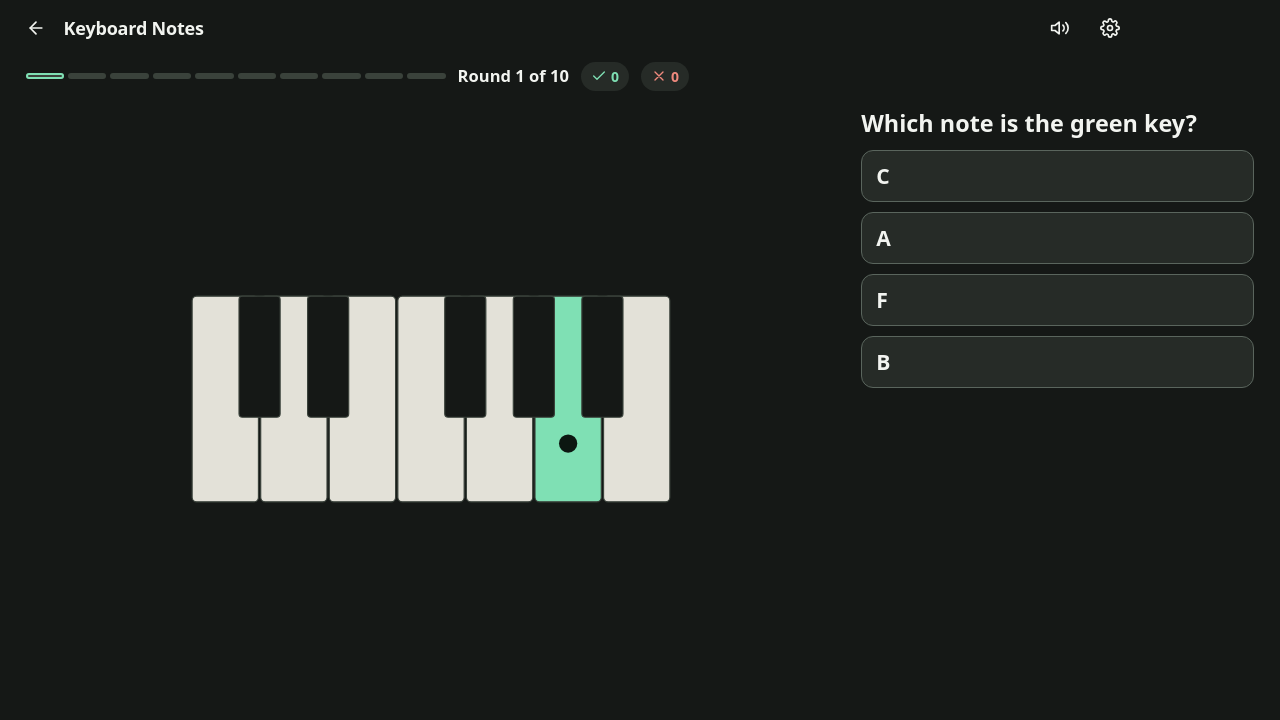
Test: the two-pane stage from 1000 px › puts the answers in one column with number keys and the feedback in the same column
The image size is (1280, 720).
Click the button "A".
click(883, 238)  # box [861,212,1254,264]
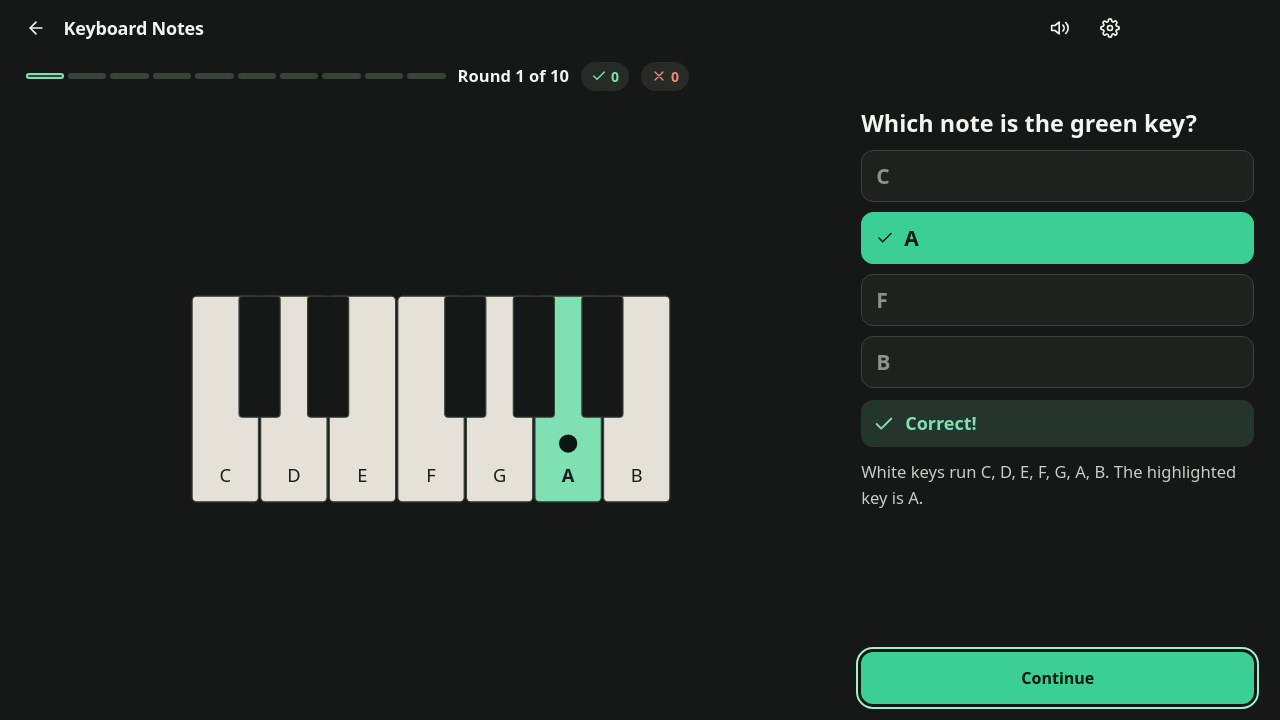
Now the message shows "Correct!", box [905,411,977,435]
Click the button "Continue".
click(1058, 678)  # box [861,652,1254,704]
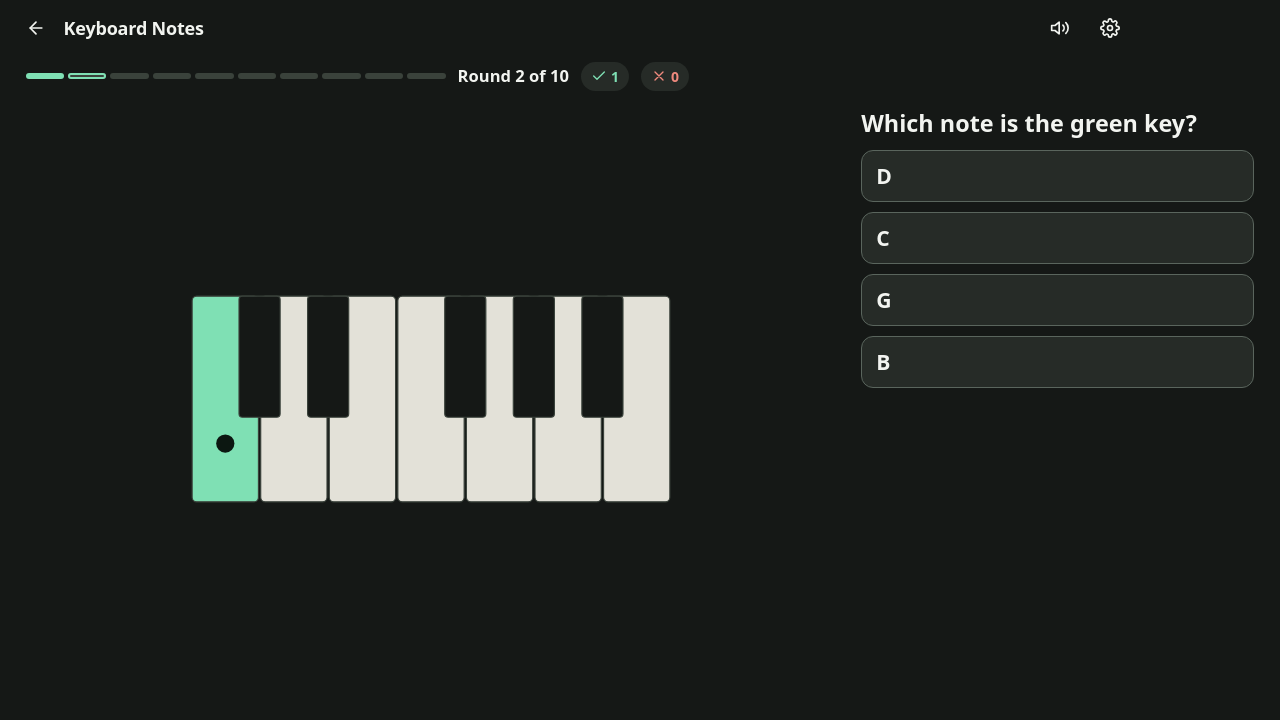
Now the text "Round 2 of 10" is shown, box [458,64,569,88]
